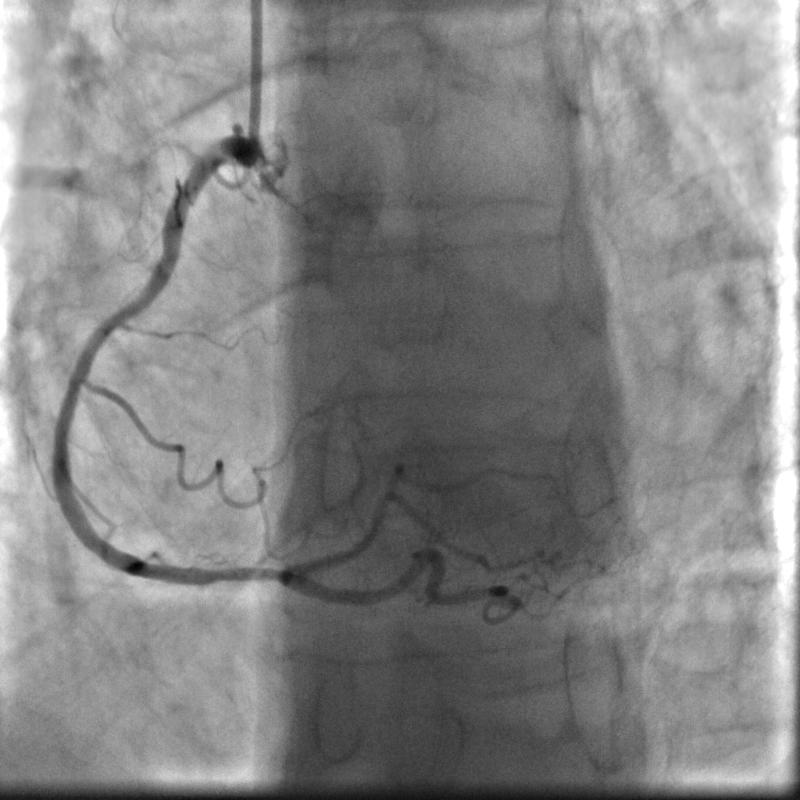Stenosis: (200, 555, 288, 593)
